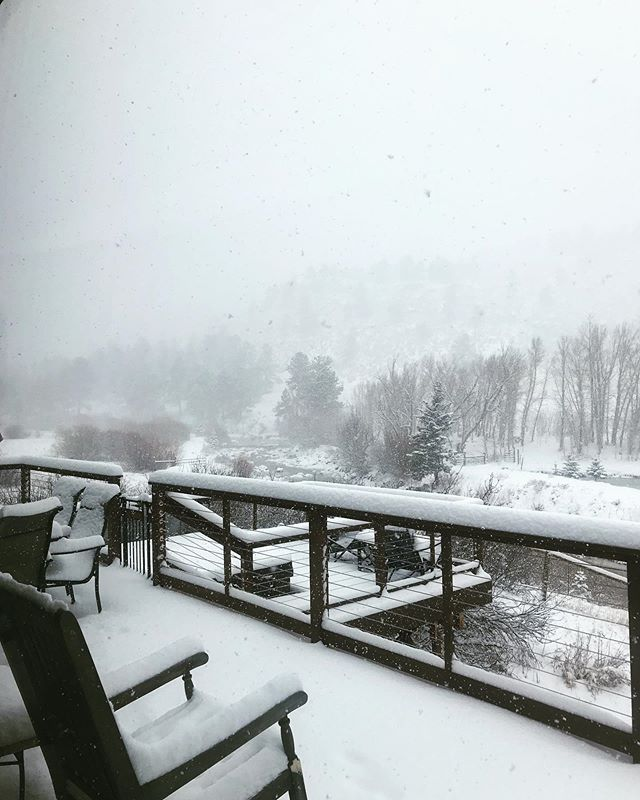chair: (4, 588, 321, 800), (39, 494, 122, 615)
sky: (1, 1, 625, 322)
vegetation: (25, 335, 640, 466)
